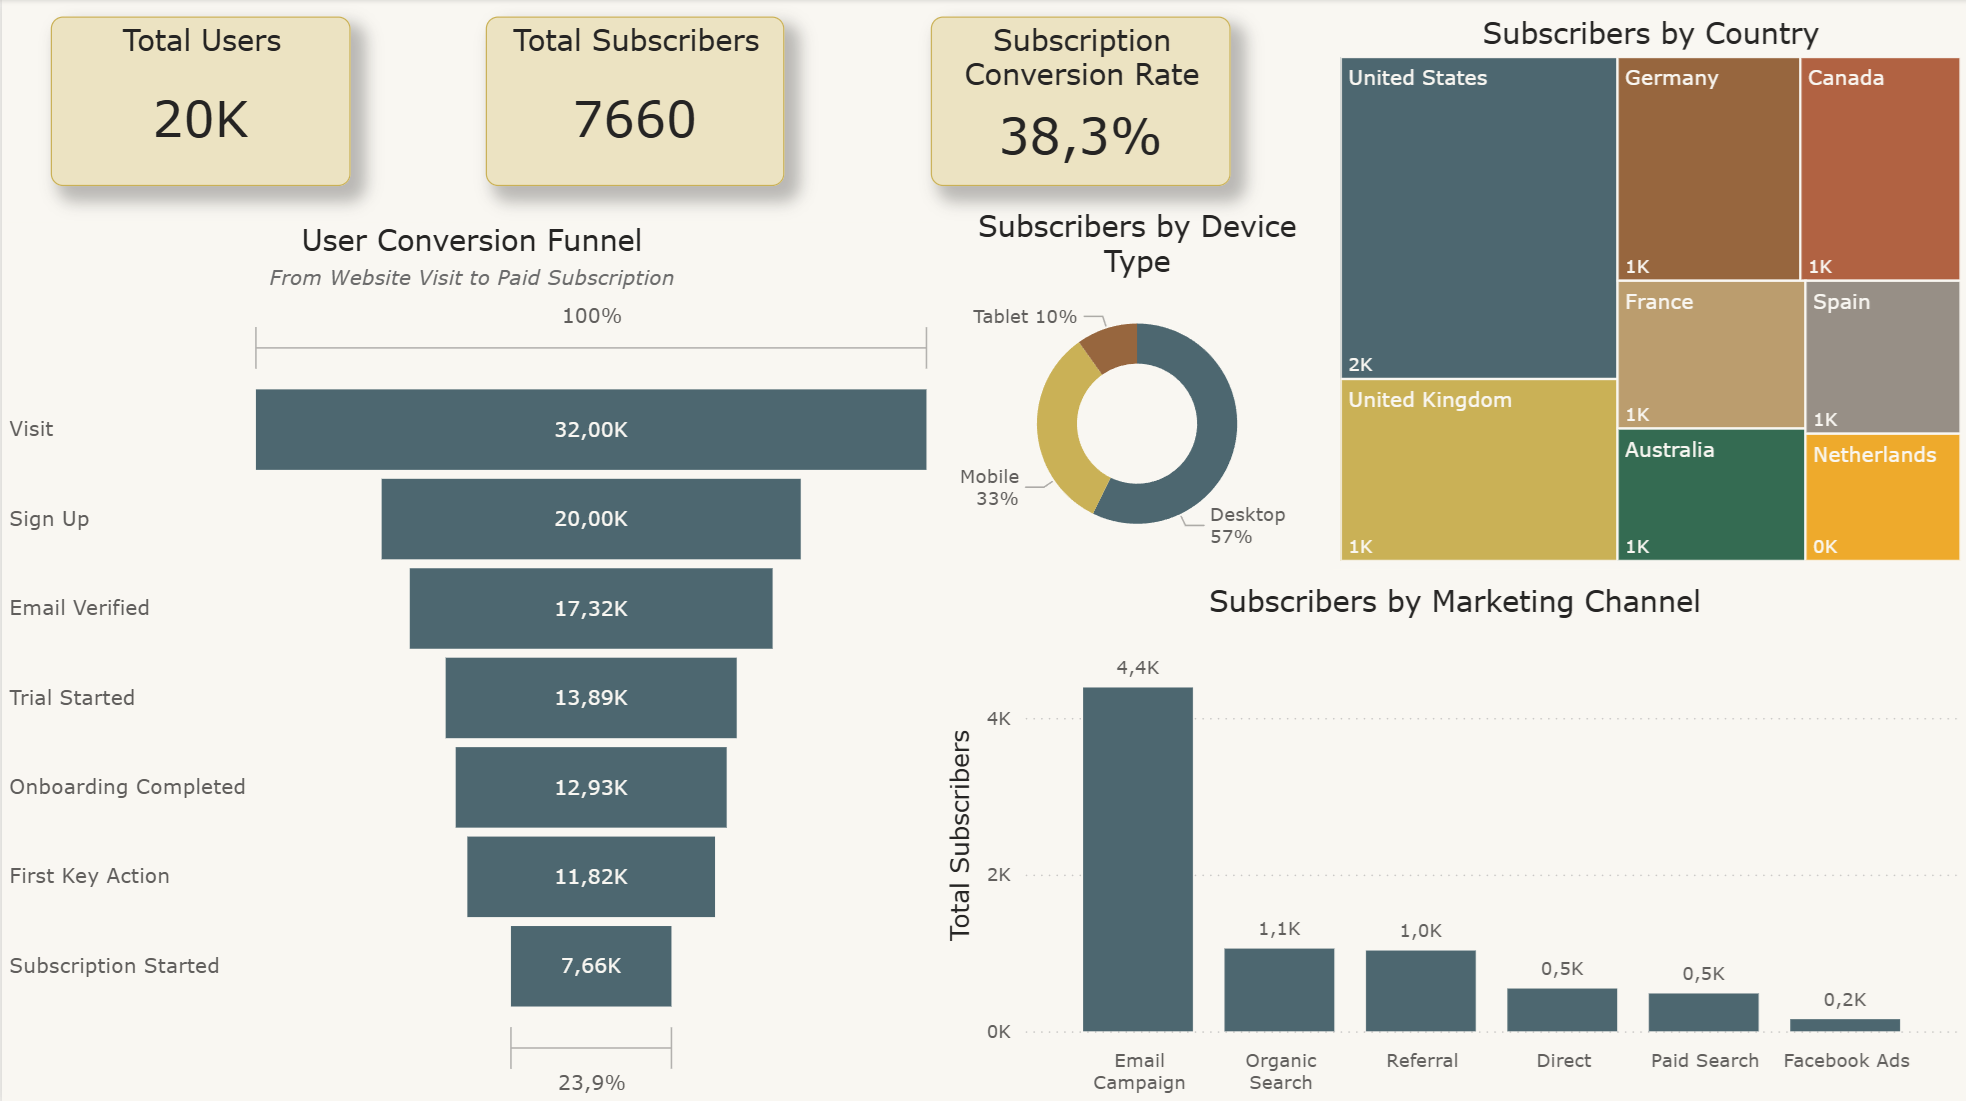

Layout of this report page (visuals, bound fields, positions):
{"tool":"powerbi","page":{"name":"SaaS Conversion Funnel Analysis","canvas":[1280,720],"ordinal":0},"visuals":[{"type":"funnel","title":"User Conversion Funnel","fields":{"Y":["CountNonNull(events.user_id)"],"Category":["events.event_type"]},"box":[0,145.5,612,574.5],"z":0},{"type":"card","title":"Total Users","fields":{"Values":["users.Total Users"]},"box":[31.9,11.4,195.3,110.7],"z":1000},{"type":"card","title":"Total Subscribers","fields":{"Values":["subscriptions.Total Subscribers"]},"box":[314.9,11.4,194.5,110.7],"z":2000},{"type":"card","title":"Subscription Conversion Rate","fields":{"Values":["users.Conversion Rate"]},"box":[604.6,11.4,195.3,110.7],"z":3000},{"type":"clusteredColumnChart","title":"Subscribers by Marketing Channel","fields":{"Category":["users.acquisition_channel"],"Y":["measures table.Total Subscribers"]},"box":[612,380.6,667.8,339.4],"z":4000},{"type":"donutChart","title":"Subscribers by Device Type","fields":{"Category":["users.device_type"],"Y":["measures table.Total Subscribers"]},"box":[612,136.3,254.3,235.1],"z":5000},{"type":"treemap","title":"Subscribers by Country","fields":{"Group":["users.country"],"Values":["measures table.Total Subscribers"]},"box":[866.3,11,413.5,360.4],"z":6000}]}

Visuals, with their boxes in screenshot pixels (x1, y1, x2, y2), scaled from the page's 1280x720 canvas onto the 1966x1101 screenshot:
"User Conversion Funnel" funnel: <region>0, 222, 940, 1100</region>
"Total Users" card: <region>49, 17, 349, 187</region>
"Total Subscribers" card: <region>484, 17, 782, 187</region>
"Subscription Conversion Rate" card: <region>929, 17, 1229, 187</region>
"Subscribers by Marketing Channel" clusteredColumnChart: <region>940, 582, 1965, 1100</region>
"Subscribers by Device Type" donutChart: <region>940, 208, 1331, 568</region>
"Subscribers by Country" treemap: <region>1331, 17, 1965, 568</region>
